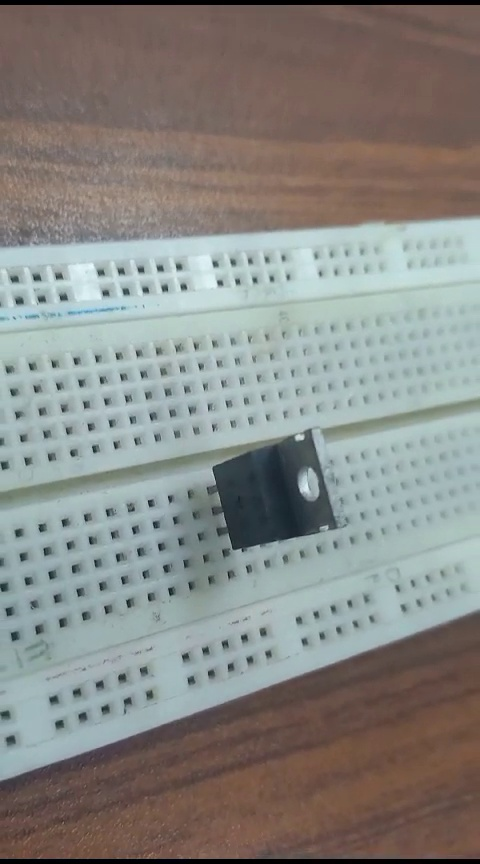voltage regulator: (192, 436, 348, 552)
